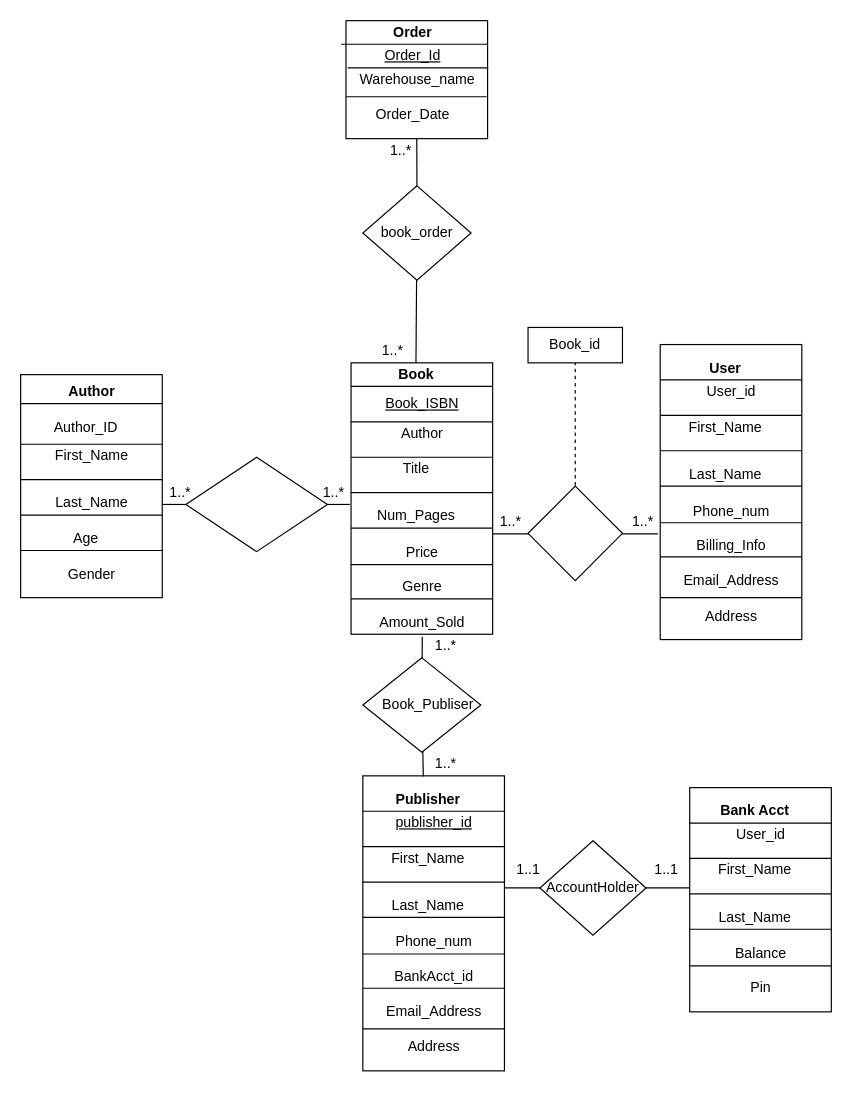
The diagram is 853 pixels wide and 1101 high, and some of its shapes have lost their labels. The shapes that lost their labels are listed below. From the top down, each one's centre as x and y in pixels, then its label:
At point (256, 504): "Author_Of_Book".
At point (574, 533): "Book_User".
